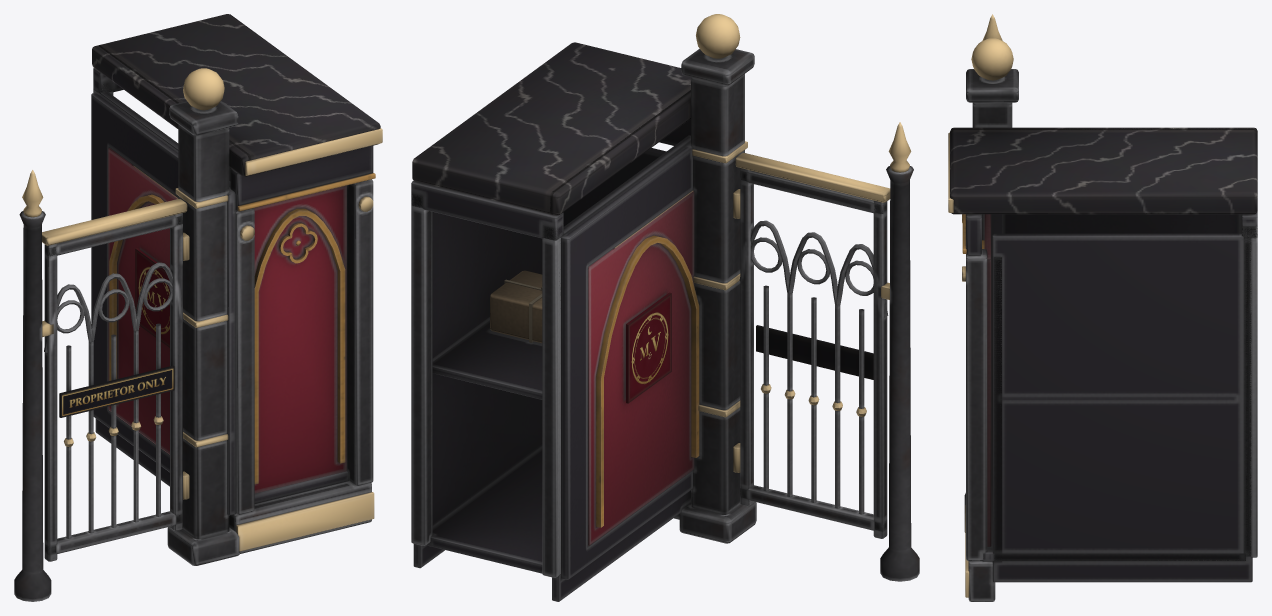
The model's file is ShopCounterEnd.fbx.
3 views of the same model, side by side, from view 1: azimuth 30°, elevation 25°; view 2: azimuth 150°, elevation 25°; view 3: azimuth 270°, elevation 25° (orthographic). The views are drawn at different scales.
Visible parts, largest first — view 1: ShopCounterEnd_Main, ShopCounterEnd_Door0; view 2: ShopCounterEnd_Main, ShopCounterEnd_Door0; view 3: ShopCounterEnd_Main.
Boxes of the visible parts, x1,y1,x2,y2 form: ShopCounterEnd_Main: (14, 14, 382, 601); ShopCounterEnd_Door0: (42, 199, 189, 561); ShopCounterEnd_Main: (411, 14, 919, 601); ShopCounterEnd_Door0: (733, 153, 890, 538); ShopCounterEnd_Main: (948, 14, 1257, 601).
Bounding box in the file's own units: 302 × 404 × 234.
